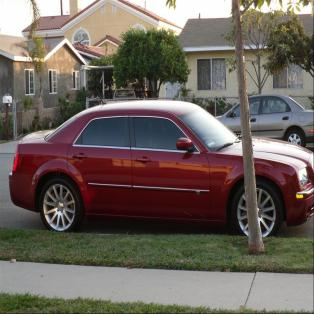Auto: (8, 96, 313, 238)
